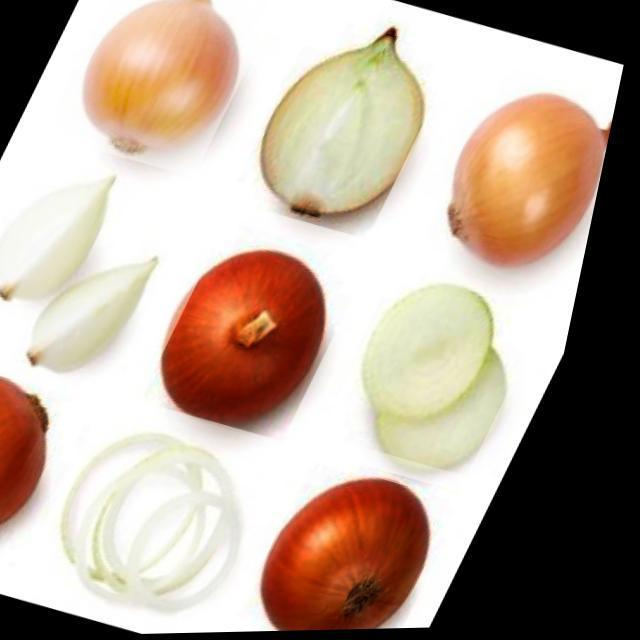Onion: (36, 394, 317, 638), (226, 0, 473, 244), (0, 150, 223, 403), (405, 51, 630, 296), (149, 220, 388, 446), (328, 268, 568, 482), (250, 450, 497, 634), (44, 0, 283, 181), (0, 353, 128, 588)
